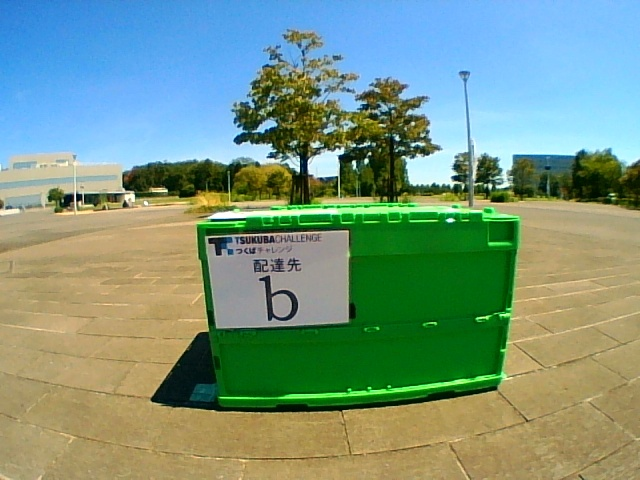green_box: (197, 203, 520, 408)
tag_b: (215, 238, 349, 324)
